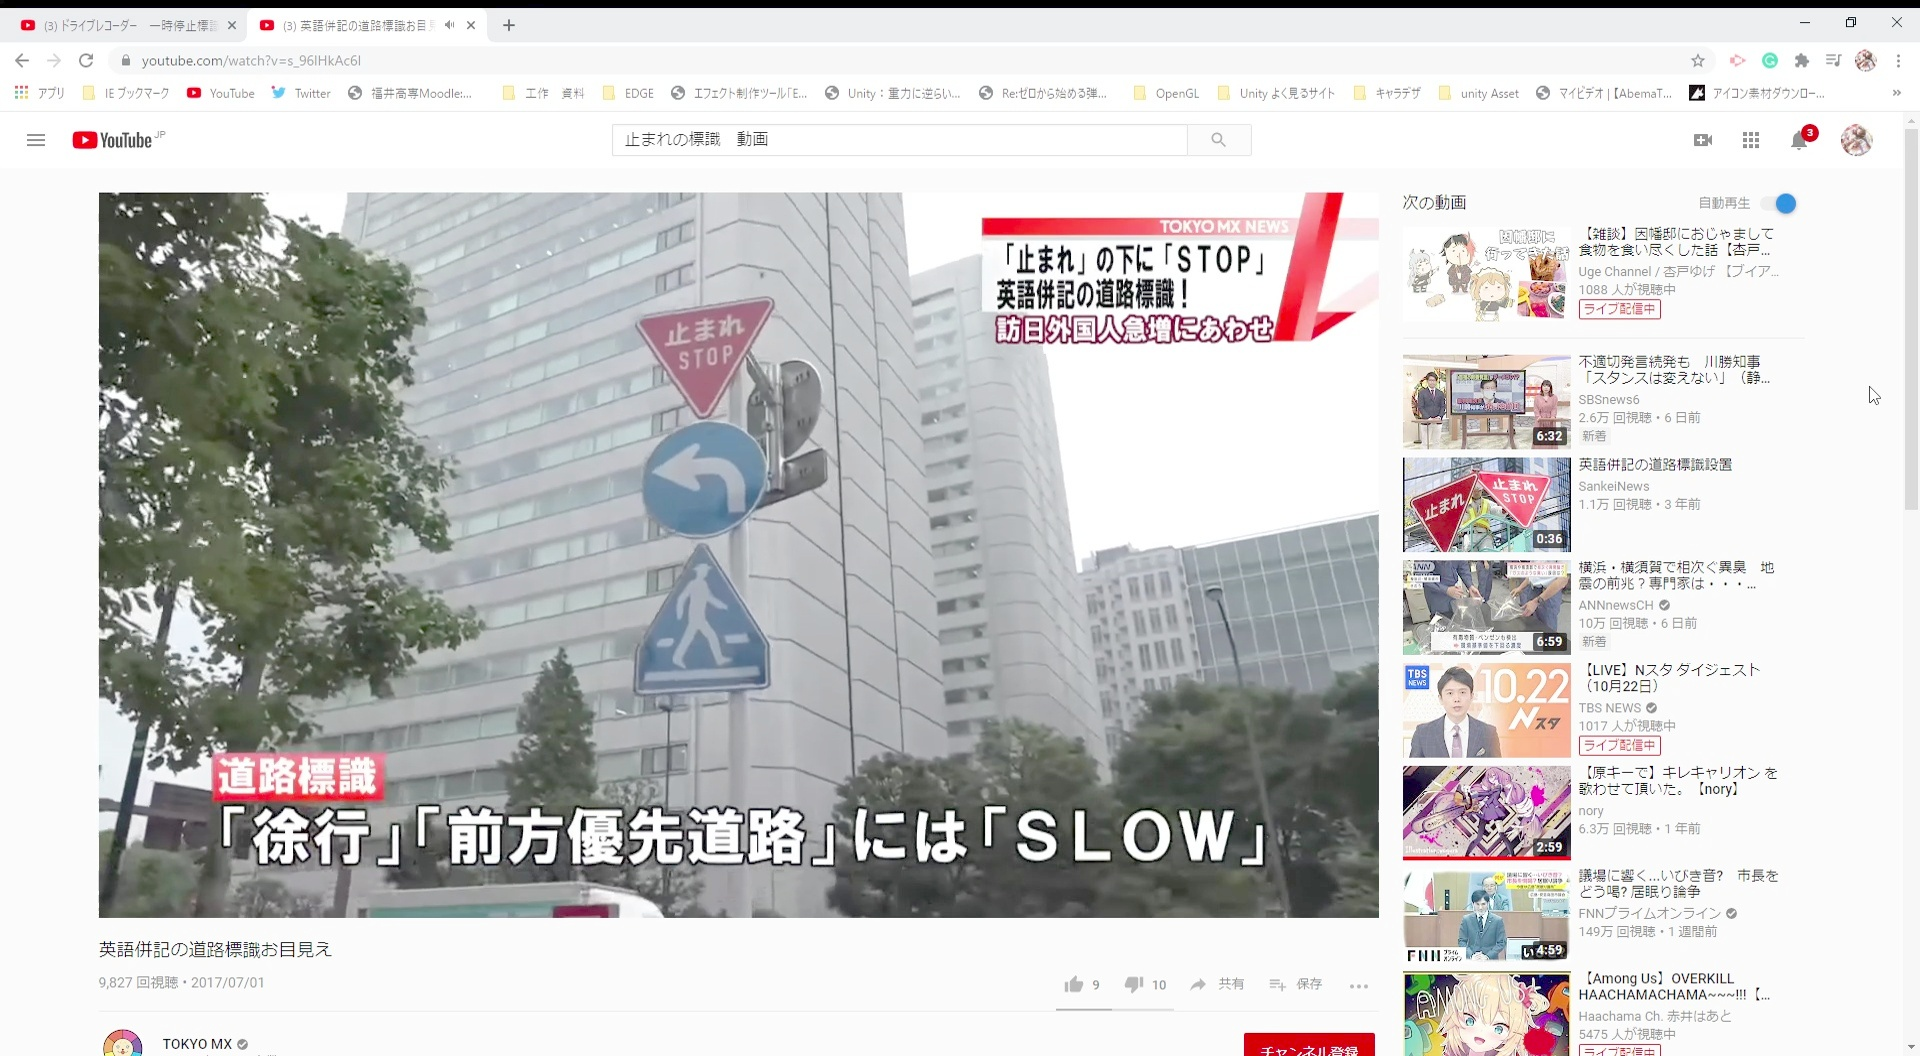Regulatory_sign_triangle: (621, 280, 792, 429)
